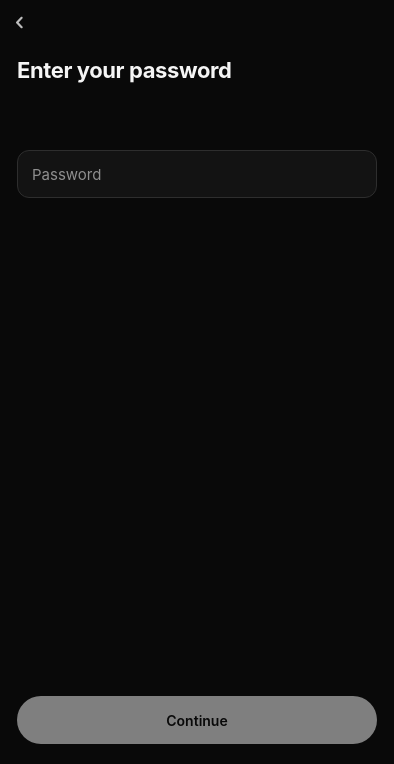
first backup › asks for the password before anything is read
Type "bad" into the password field labelled "Password" at {"x": 197, "y": 174}, box [17, 150, 377, 198]
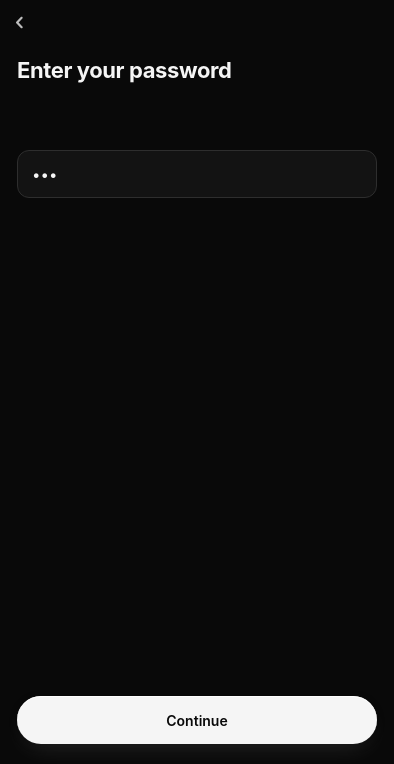
Click the button "Continue" at {"x": 197, "y": 720}, box [17, 696, 377, 744]
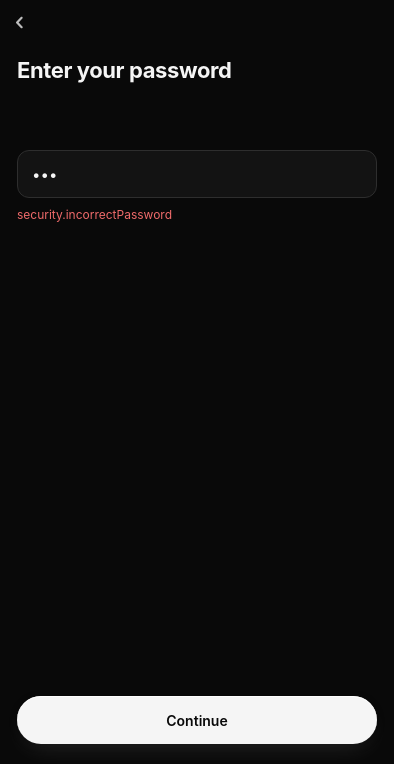
expect the text "security.incorrectPassword" is shown: met, box [17, 207, 172, 222]
